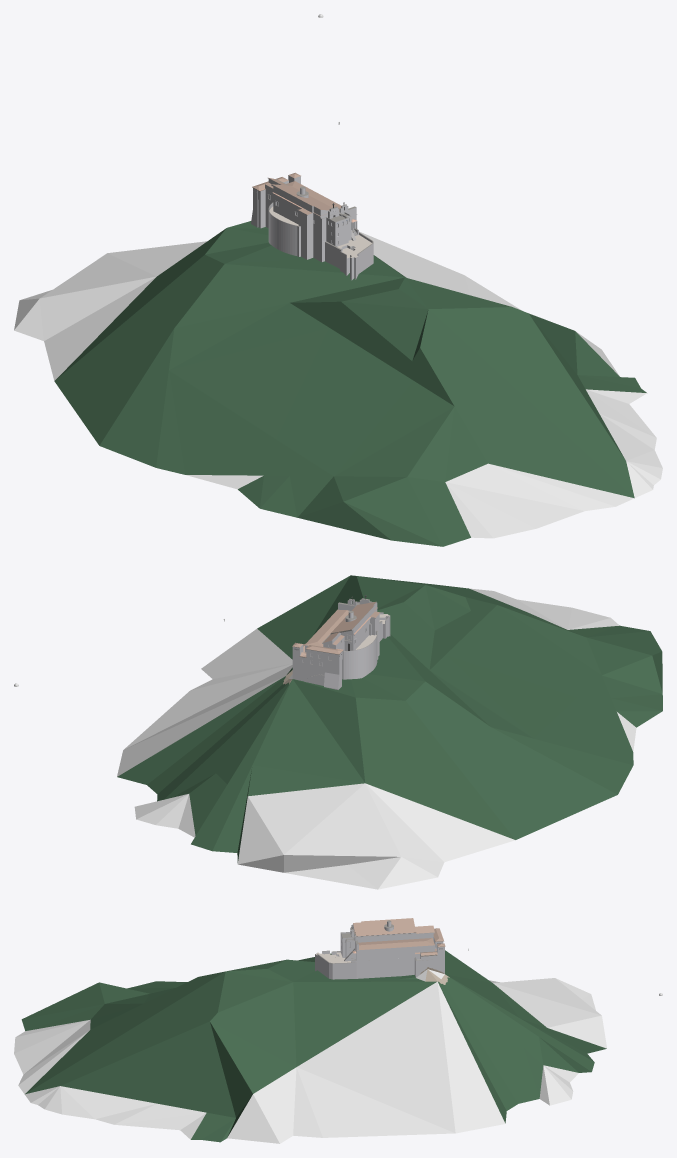
File: convento.glb
3 views of the same model, one above another, from view 1: azimuth 30°, elevation 25°; view 2: azimuth 150°, elevation 25°; view 3: azimuth 270°, elevation 25° (orthographic). The views are drawn at different scales.
Parts seen in each view (by area): view 1: imagetostl_mesh210, imagetostl_mesh158, imagetostl_mesh183, imagetostl_mesh182, imagetostl_mesh704, imagetostl_mesh200, imagetostl_mesh240, imagetostl_mesh197, imagetostl_mesh185, imagetostl_mesh188, imagetostl_mesh220, imagetostl_mesh215 (+40 smaller); view 2: imagetostl_mesh158, imagetostl_mesh170, imagetostl_mesh172, imagetostl_mesh179, imagetostl_mesh173, imagetostl_mesh183, imagetostl_mesh171, imagetostl_mesh200, imagetostl_mesh161, imagetostl_mesh714, imagetostl_mesh240, imagetostl_mesh722 (+51 smaller); view 3: imagetostl_mesh720, imagetostl_mesh719, imagetostl_mesh722, imagetostl_mesh713, imagetostl_mesh701, imagetostl_mesh156, imagetostl_mesh210, imagetostl_mesh704, imagetostl_mesh714, imagetostl_mesh270, imagetostl_mesh1246, imagetostl_mesh626 (+47 smaller).
Part boxes in pixels (x1,y1,x2,y2): imagetostl_mesh210: (420,309,634,498); imagetostl_mesh158: (54,255,224,433); imagetostl_mesh183: (169,328,328,439); imagetostl_mesh182: (175,264,404,327); imagetostl_mesh704: (429,307,576,386); imagetostl_mesh200: (179,415,333,476); imagetostl_mesh240: (99,329,174,467); imagetostl_mesh197: (277,392,401,475); imagetostl_mesh185: (277,328,370,438); imagetostl_mesh188: (170,303,328,369); imagetostl_mesh220: (344,477,442,546); imagetostl_mesh215: (290,301,411,374); imagetostl_mesh158: (406,681,599,839); imagetostl_mesh170: (355,697,515,839); imagetostl_mesh172: (252,679,364,783); imagetostl_mesh179: (284,783,401,856); imagetostl_mesh173: (365,783,515,862); imagetostl_mesh183: (446,655,577,738); imagetostl_mesh171: (248,783,364,854); imagetostl_mesh200: (563,675,632,752); imagetostl_mesh161: (293,679,365,782); imagetostl_mesh714: (257,575,350,659); imagetostl_mesh240: (492,727,633,794); imagetostl_mesh722: (124,664,292,749); imagetostl_mesh720: (297,981,455,1133); imagetostl_mesh719: (293,981,436,1066); imagetostl_mesh722: (296,1067,455,1137); imagetostl_mesh713: (437,982,505,1133); imagetostl_mesh701: (210,982,296,1066); imagetostl_mesh156: (135,1041,209,1112); imagetostl_mesh210: (25,971,224,1093); imagetostl_mesh704: (135,971,225,1053); imagetostl_mesh714: (210,1021,295,1093); imagetostl_mesh270: (445,978,539,1103); imagetostl_mesh1246: (447,977,538,1055); imagetostl_mesh626: (356,946,436,978).
Bounding box in the file's own units: 8439 × 2980 × 12554.
